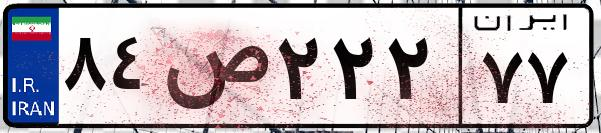2: (270, 28, 330, 110), (385, 28, 445, 110), (330, 28, 385, 110)
4: (110, 28, 158, 98)
7: (475, 38, 525, 113), (525, 38, 570, 115)
8: (57, 26, 110, 100)
ص: (158, 20, 270, 120)
